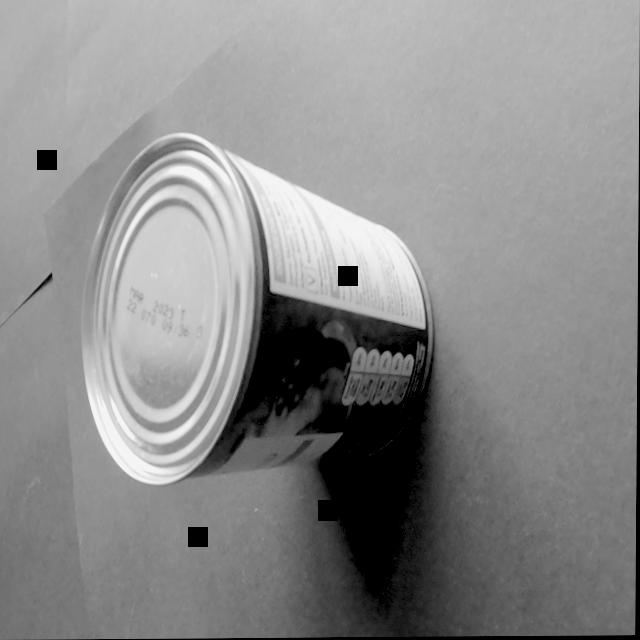Buttermilk: (68, 113, 458, 516)
